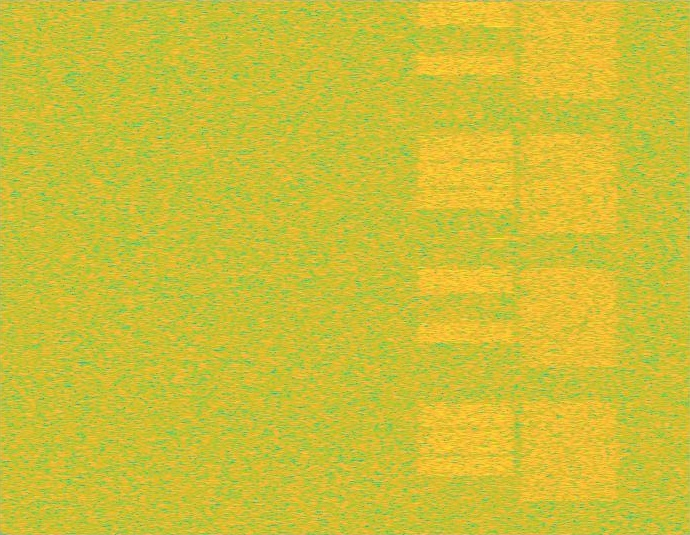5G: (518, 0, 621, 534)
LTE: (414, 0, 518, 534)
Radar: (491, 0, 504, 534)
